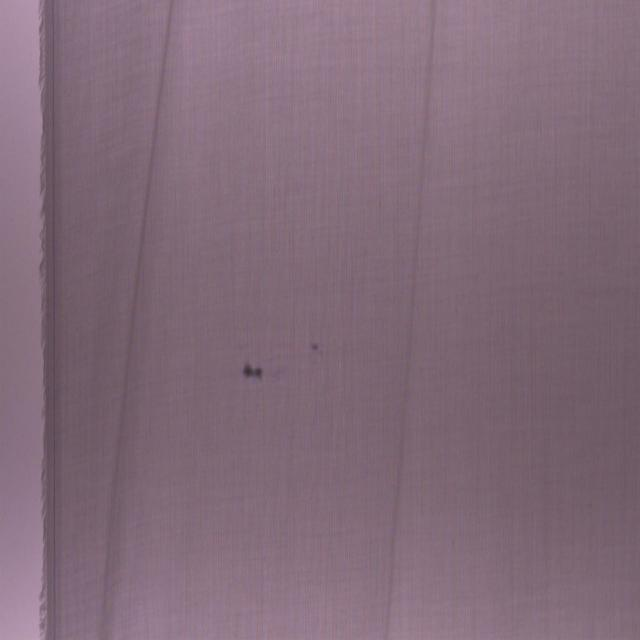dirty: (240, 358, 264, 384), (310, 337, 323, 358)
